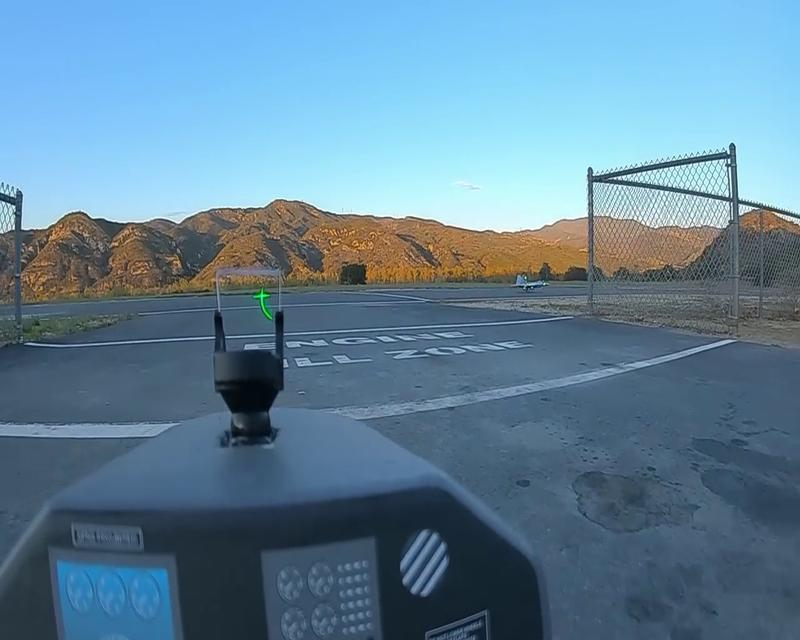UAV: (508, 272, 549, 292)
